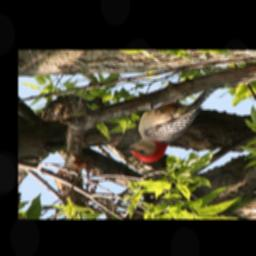Woodpecker: (114, 85, 223, 165)
